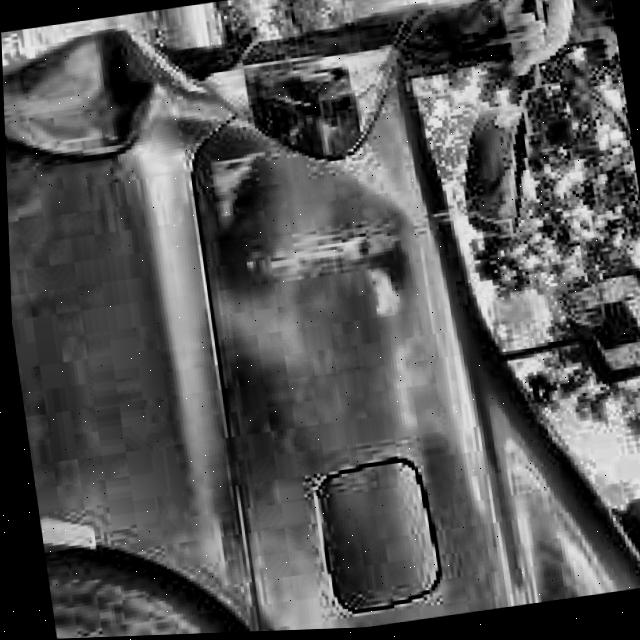bumper_dent: (234, 162, 410, 348), (1, 30, 159, 168)
